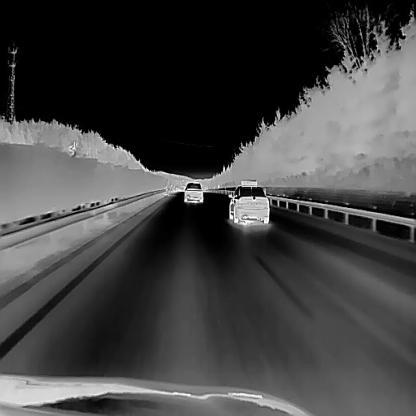car: (228, 179, 269, 225), (184, 182, 203, 203)
